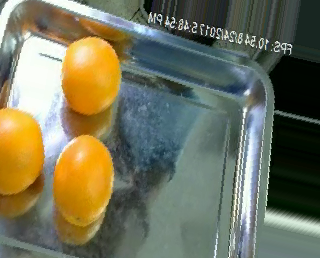Orange: (53, 133, 115, 226), (61, 36, 122, 115), (1, 106, 45, 195)
